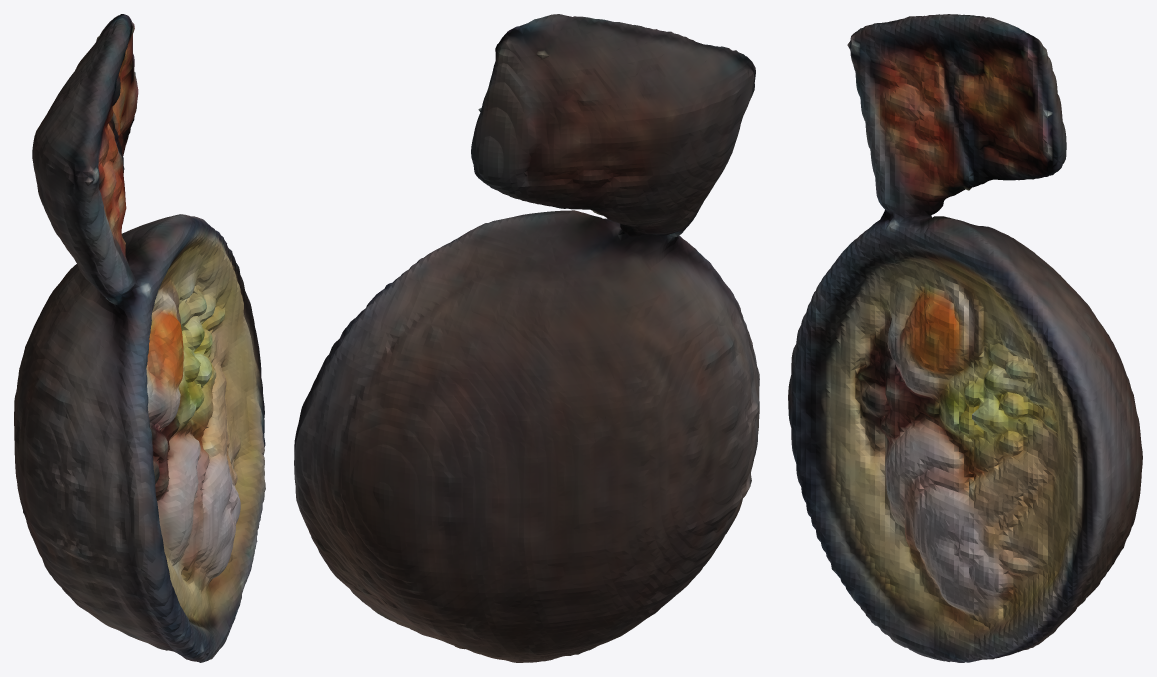
The picture shows the model from 3 angles, left to right: view 1: azimuth 30°, elevation 25°; view 2: azimuth 150°, elevation 25°; view 3: azimuth 270°, elevation 25°; orthographic projection. The views are drawn at different scales.
Bounding box in the file's own units: 0.4942 × 0.9241 × 0.4904.
